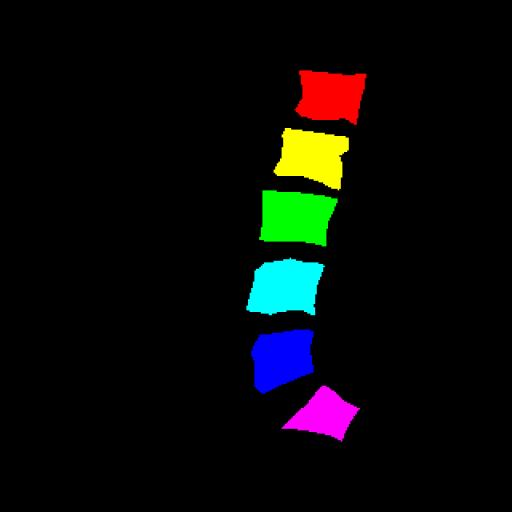L1: (295, 72, 366, 124)
L2: (274, 128, 349, 190)
L3: (260, 192, 336, 246)
L4: (248, 259, 322, 314)
L5: (251, 331, 313, 392)
S1: (282, 386, 359, 440)
